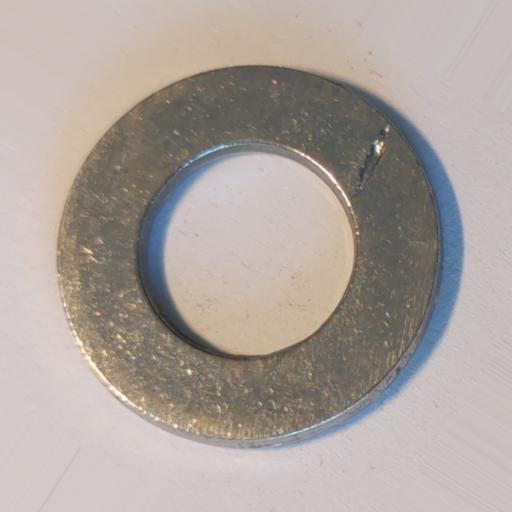scratch: (351, 122, 392, 200)
